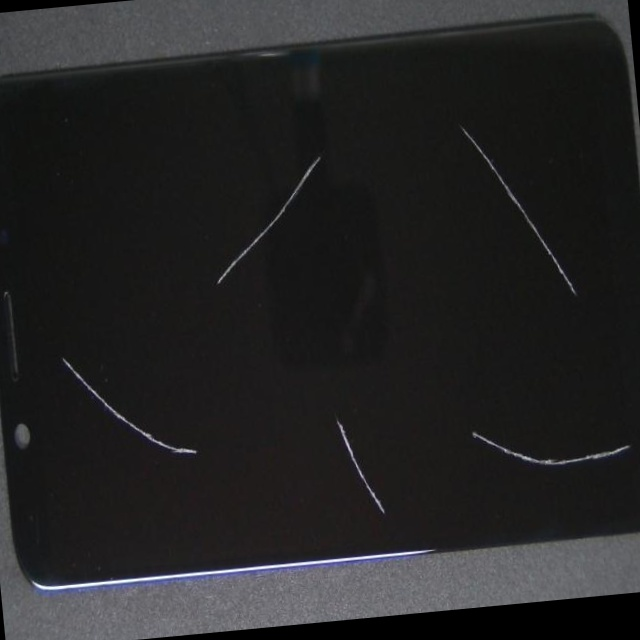scratch: (210, 0, 467, 266)
